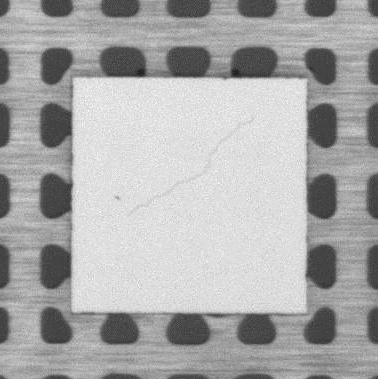DIE_CRACK: (123, 116, 256, 220)
